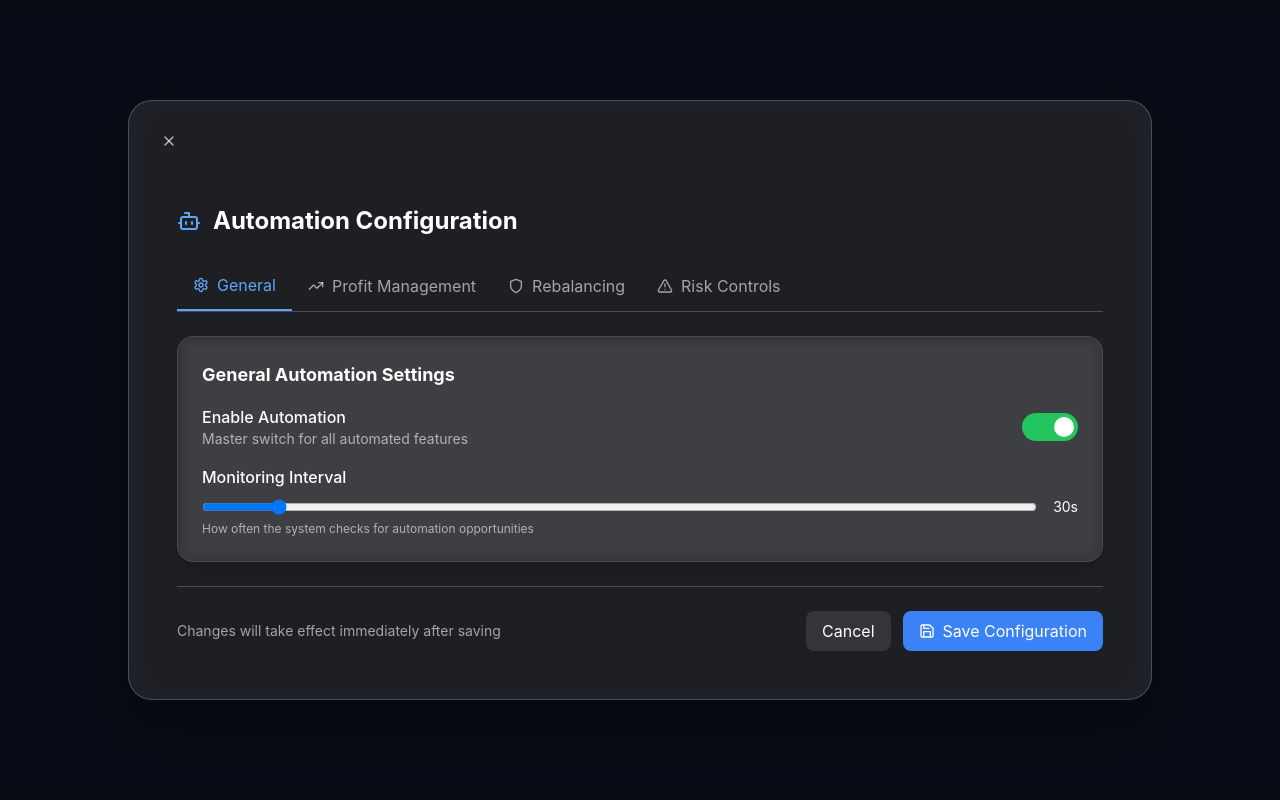
AutomationConfigPanel › displays risk controls settings
Click the button "Risk Controls" at [719, 286], box left=641, top=261, right=796, bottom=311
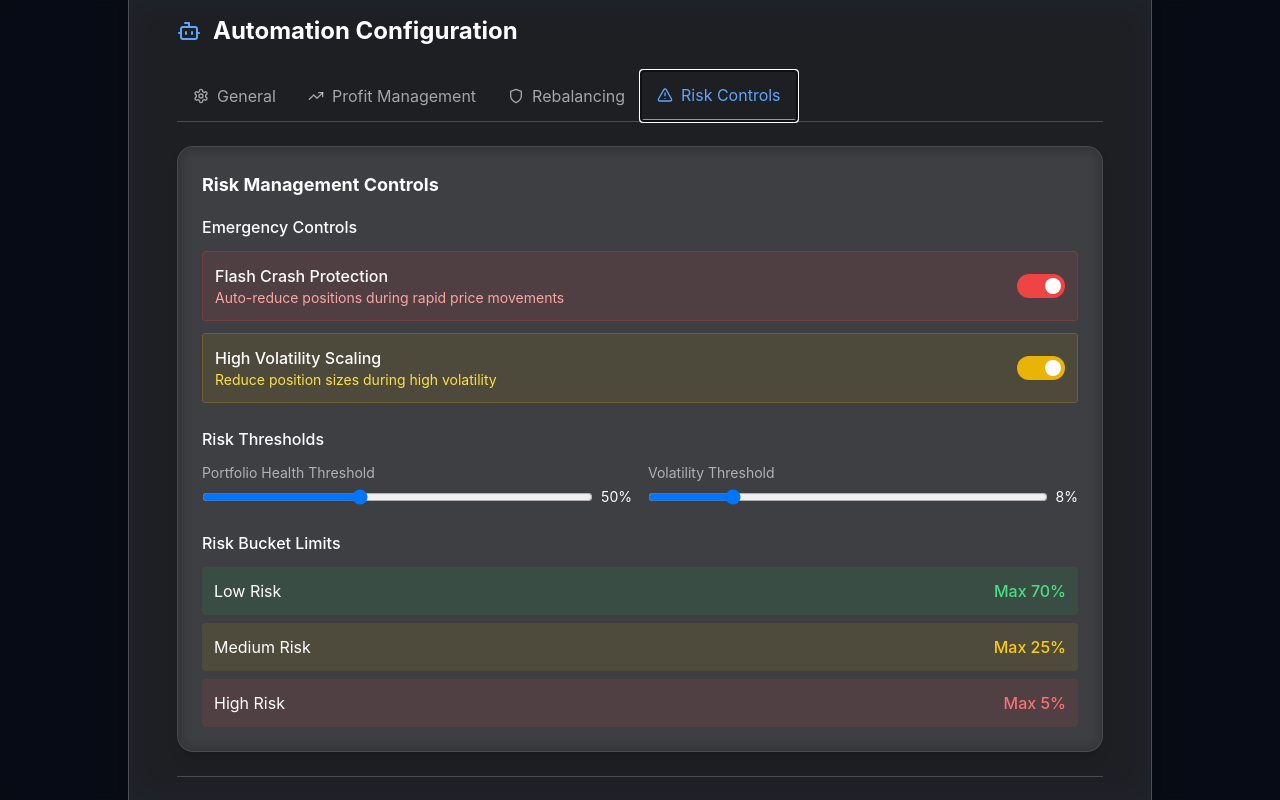
Check: the heading "Risk Management Controls" is shown, box left=202, top=174, right=439, bottom=195
Check: the text "Emergency Controls" is shown, box left=202, top=217, right=357, bottom=237
Check: the text "Flash Crash Protection" is shown, box left=215, top=266, right=388, bottom=286
